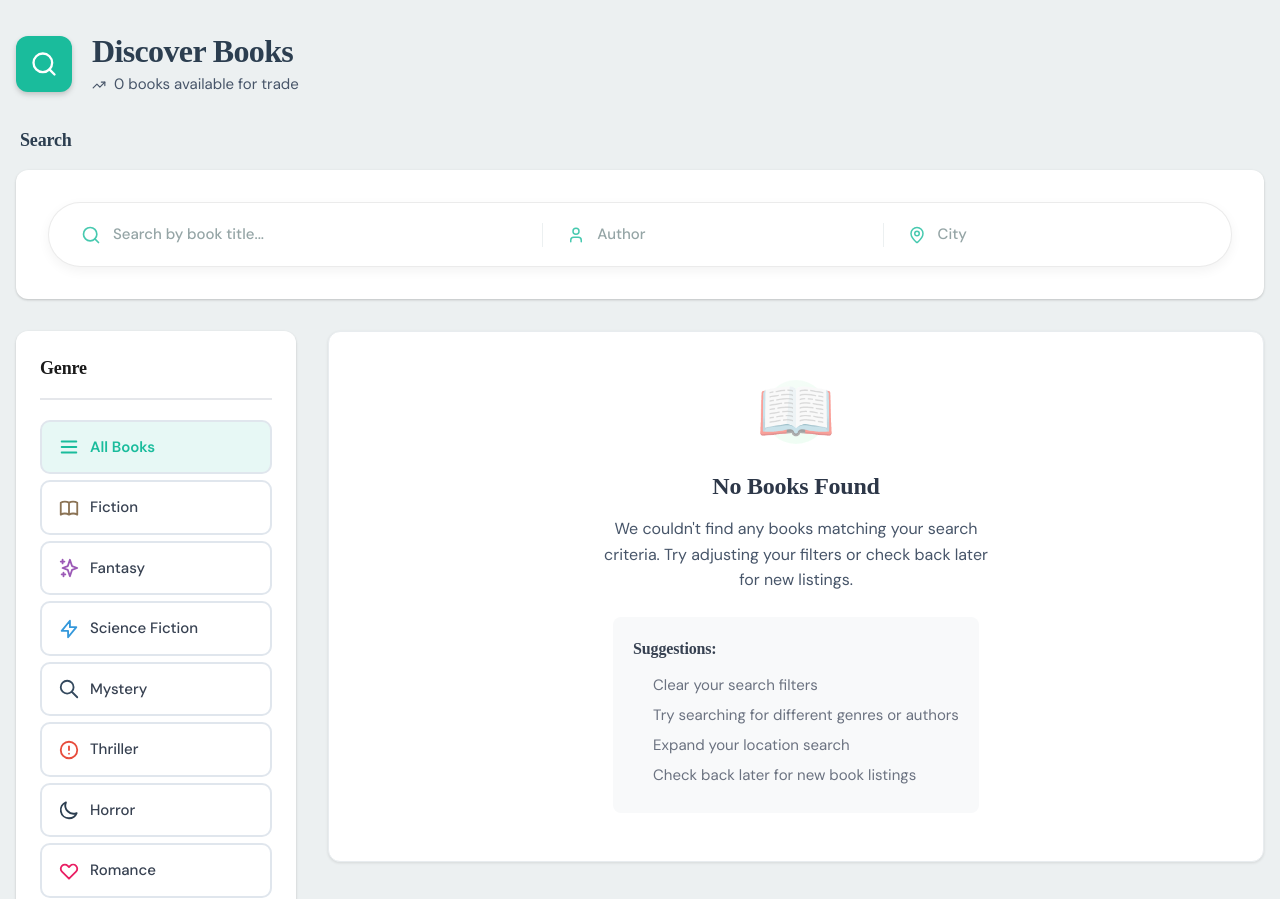
Scenario: BrowsePage › clears filters when clear button is clicked
This screenshot has width=1280, height=899.
Type "Boston" into the field with placeholder "City". click: x=1068, y=235
box: [938, 219, 1199, 250]
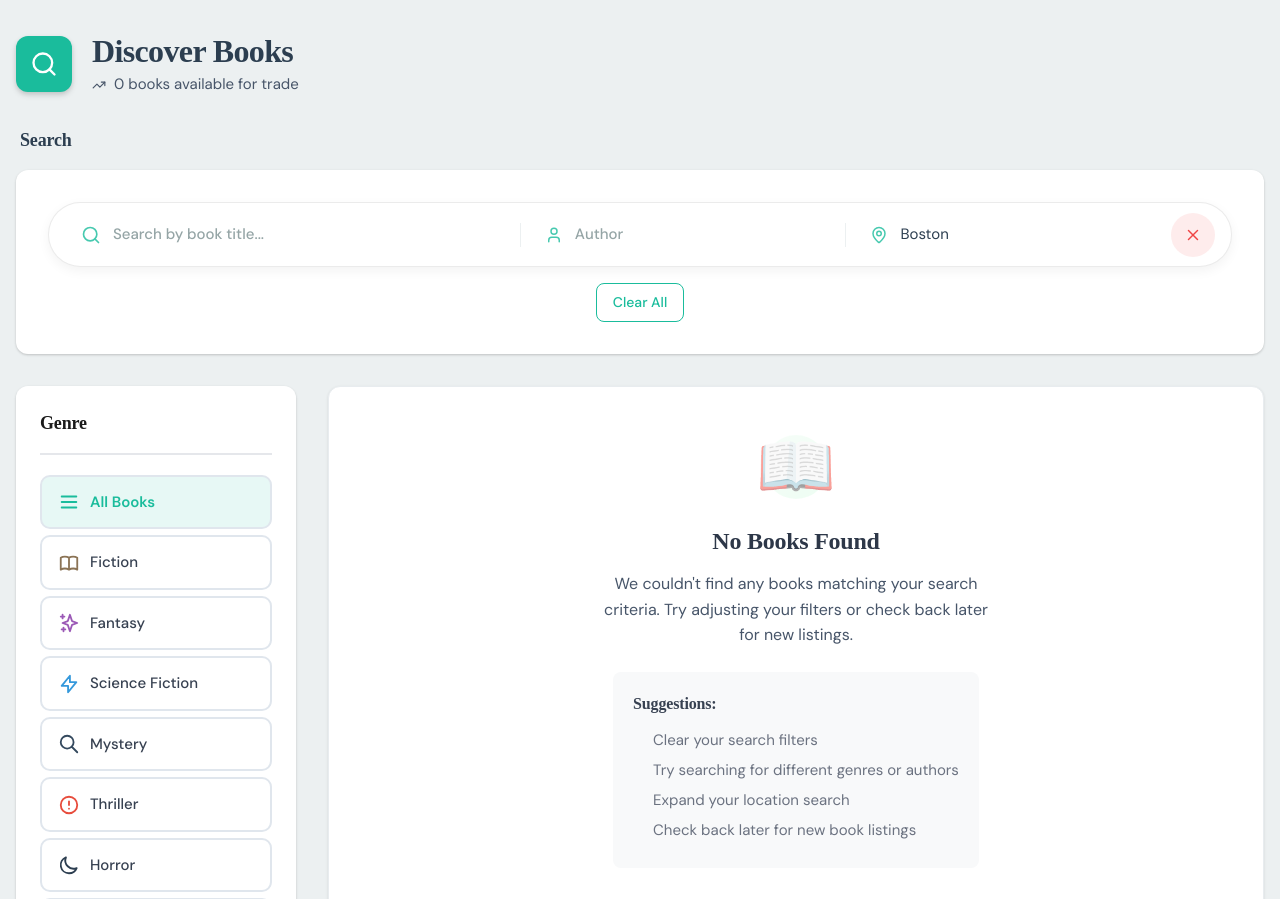
Click the button "Clear All". click: x=640, y=302
box: [596, 283, 684, 322]
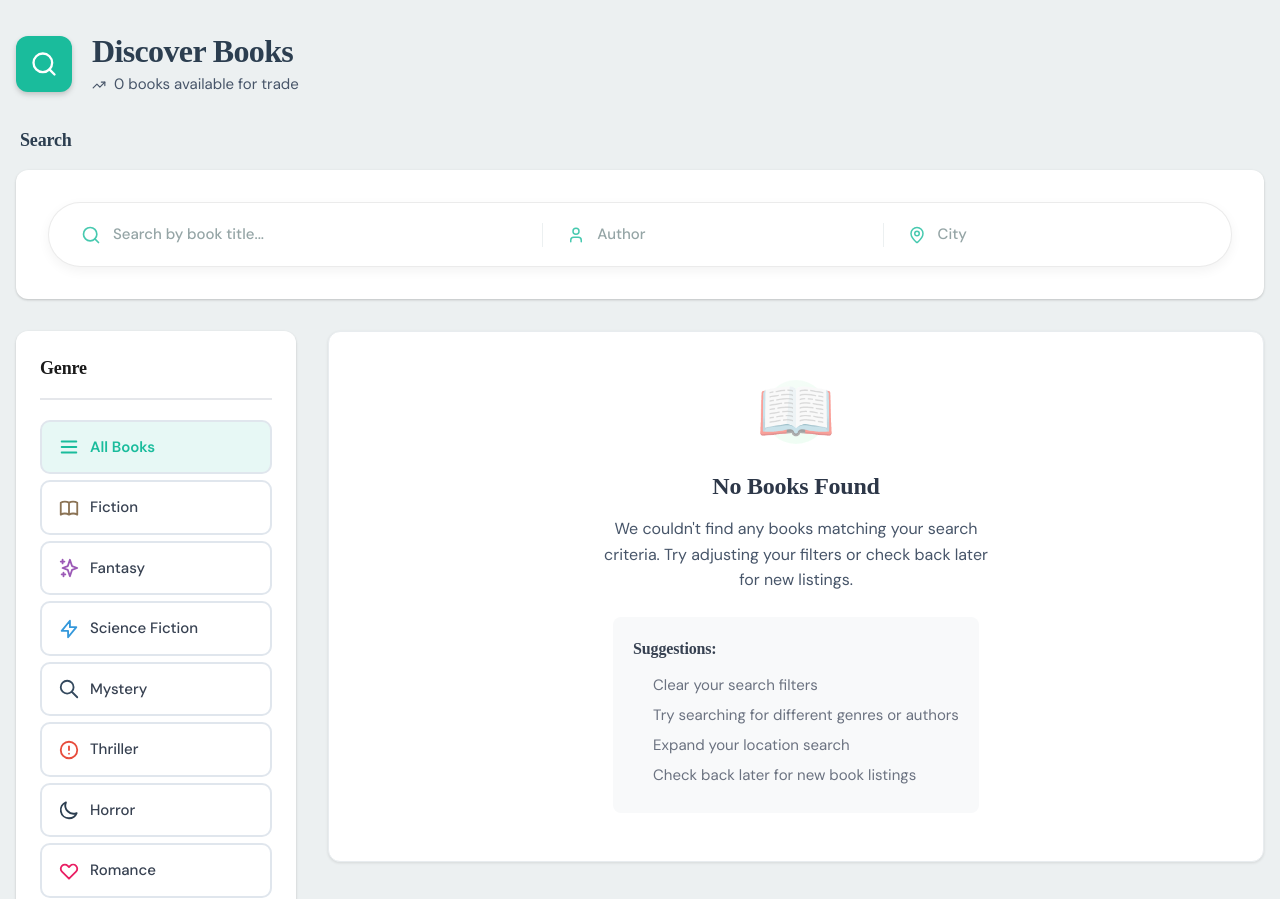
Now the field with placeholder "City" is empty, box [938, 219, 1199, 250]
